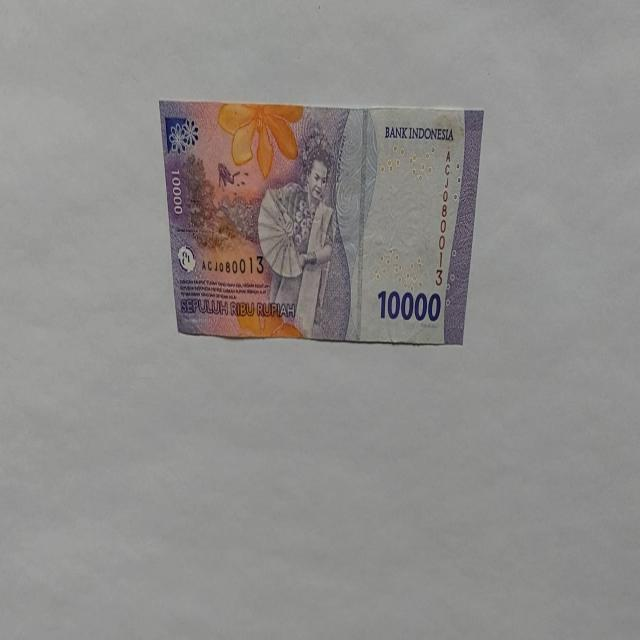sepuluh ribu rupiah: (158, 98, 484, 346), (376, 287, 442, 324)
